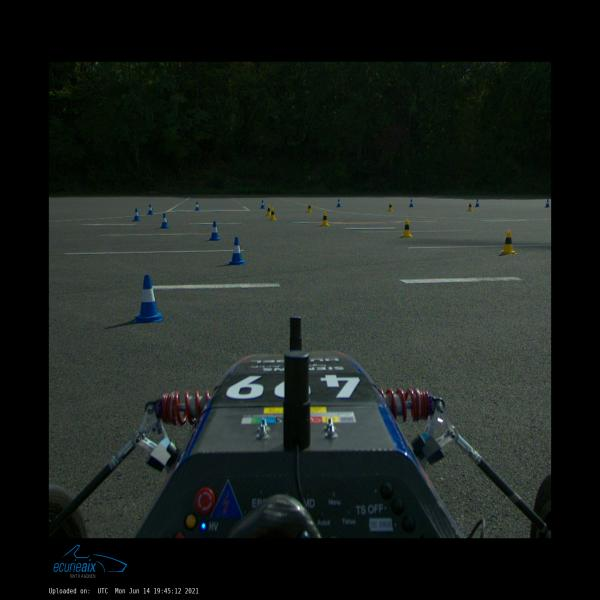blue_cone: (134, 274, 163, 323), (228, 237, 246, 265), (209, 221, 221, 241), (160, 213, 170, 229), (132, 208, 141, 221), (147, 204, 154, 215), (194, 201, 200, 211), (545, 198, 550, 208), (260, 200, 265, 209), (336, 199, 341, 207), (409, 199, 414, 207), (475, 199, 480, 207)
yellow_cone: (500, 230, 517, 254), (402, 219, 414, 238), (321, 212, 330, 226), (269, 208, 277, 221), (265, 204, 271, 216), (467, 201, 473, 211), (307, 202, 313, 212), (388, 202, 394, 211)
